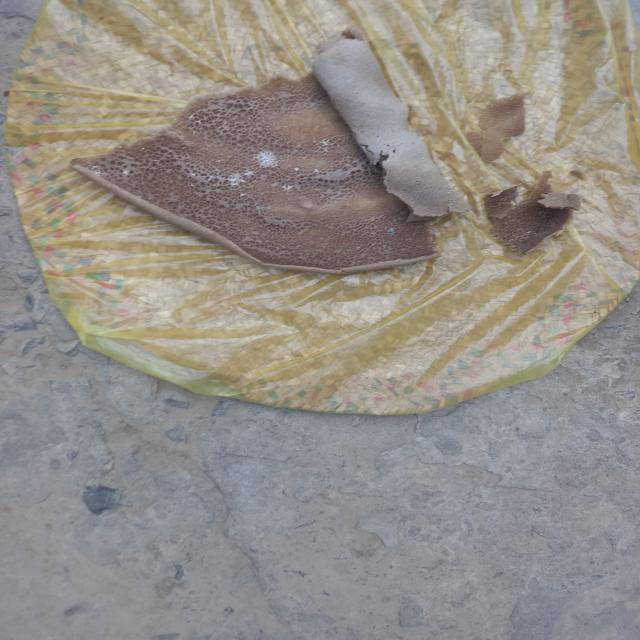injera_mold: (251, 149, 282, 169), (221, 170, 246, 191), (88, 166, 111, 180), (318, 139, 334, 151), (383, 226, 398, 237), (282, 182, 294, 195), (122, 167, 134, 179)
